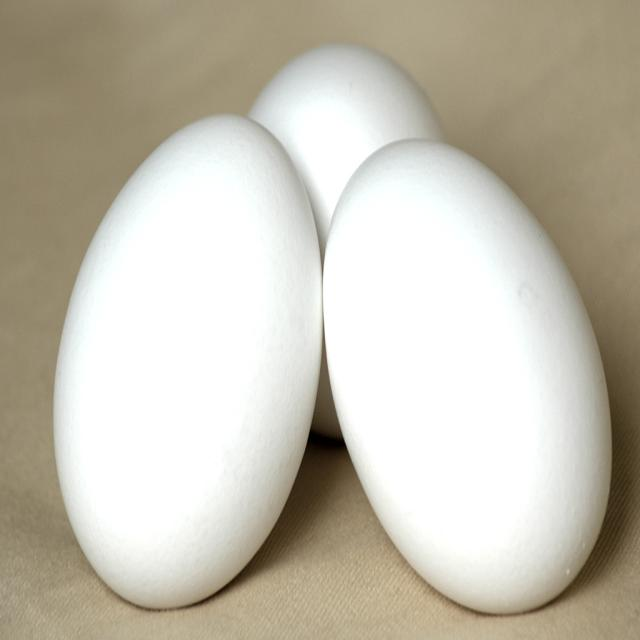Egg: (51, 38, 615, 616)
